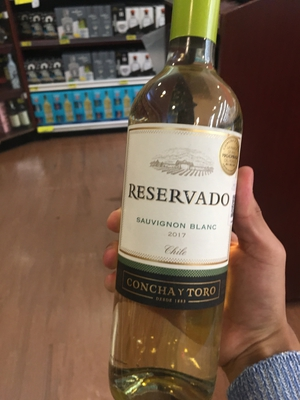reservado sauvignon blanc: (116, 21, 245, 400)
